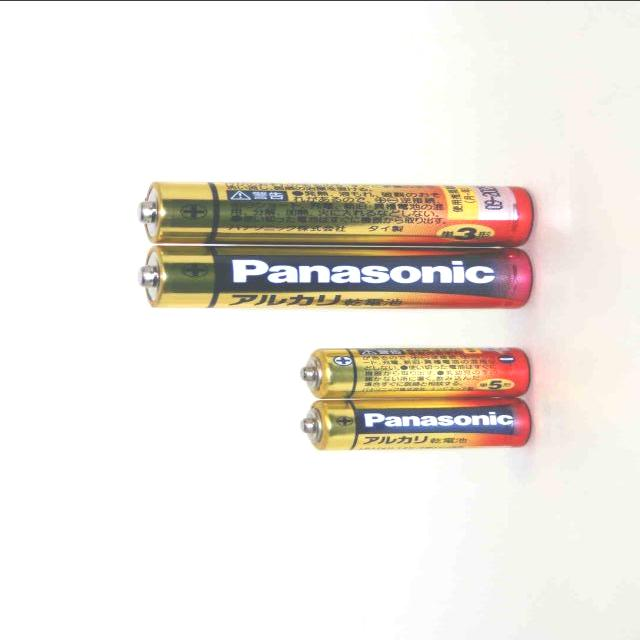AAA: (130, 174, 535, 250), (135, 240, 552, 312)
